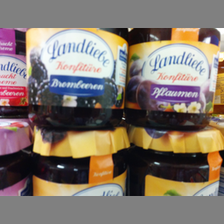jam: (24, 29, 128, 130), (128, 28, 221, 130), (28, 124, 132, 197), (130, 126, 222, 196)
